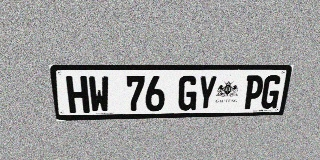6: (146, 76, 165, 111)
7: (125, 76, 145, 112)
G: (260, 75, 283, 109), (178, 76, 198, 111)
H: (66, 76, 90, 113)
P: (242, 75, 265, 109)
W: (88, 76, 110, 113)
Y: (196, 75, 218, 110)
